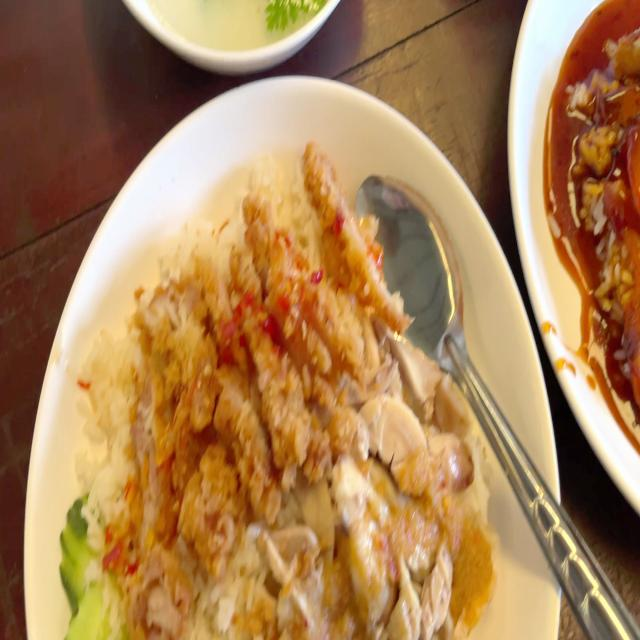boiled_chicken: (179, 340, 481, 639)
chicken_rice: (60, 138, 499, 640)
cucumber: (53, 485, 119, 640)
fried_chicken: (98, 138, 435, 639)
red_pork_and_crispy_pork: (559, 21, 640, 412)
